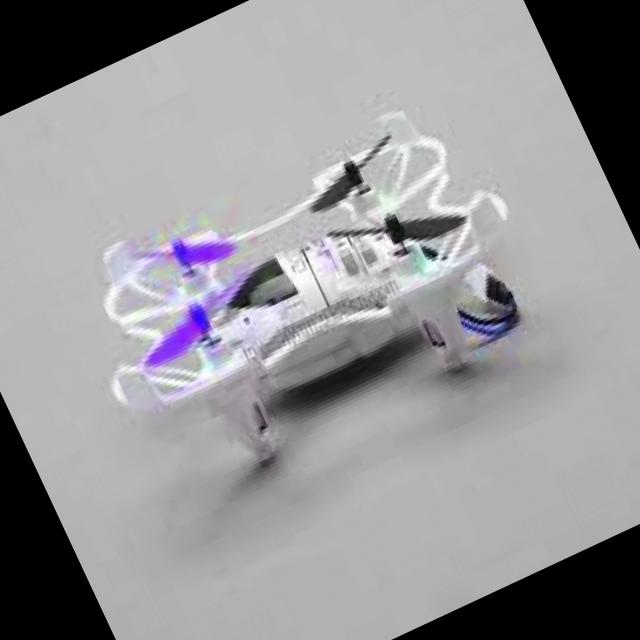drone: (38, 64, 584, 535)
